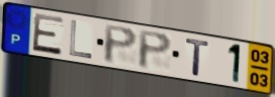1: (225, 42, 243, 87)
E: (31, 12, 66, 57)
L: (68, 19, 94, 61)
P: (137, 28, 174, 71), (103, 23, 140, 66)
T: (184, 37, 212, 79)
